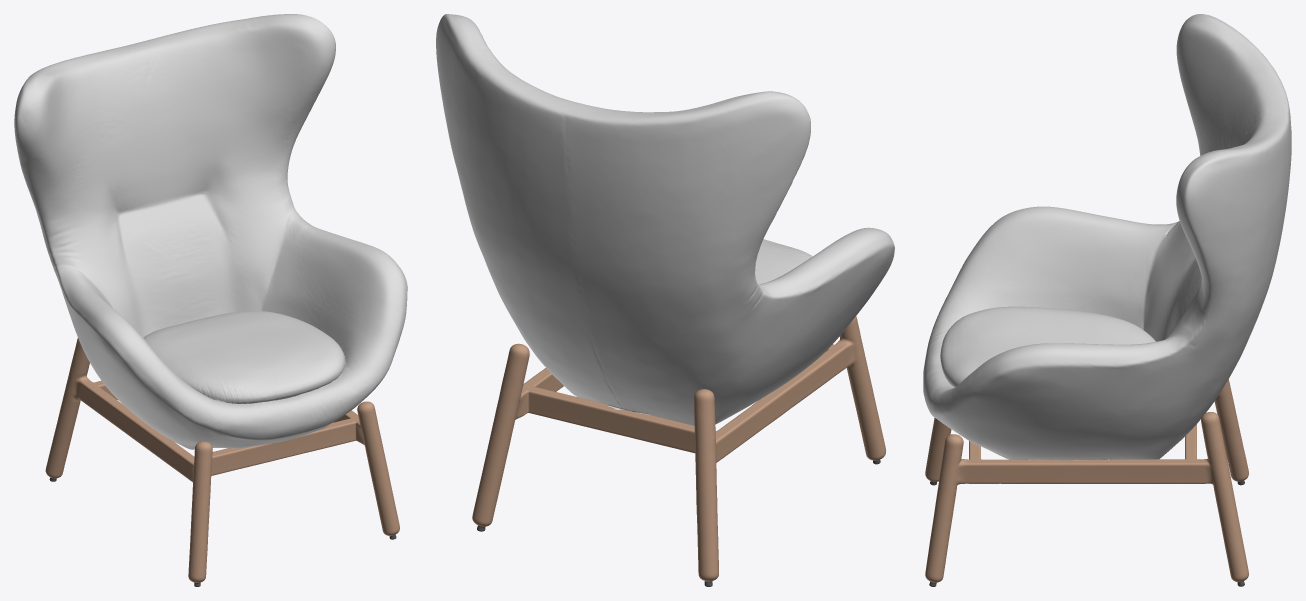
The model's file is SBH_ELKE.glb.
The picture shows the model from 3 angles, left to right: view 1: azimuth 30°, elevation 25°; view 2: azimuth 150°, elevation 25°; view 3: azimuth 270°, elevation 25°; orthographic projection. The views are drawn at different scales.
Parts seen in each view (by area): view 1: ELKE; view 2: ELKE; view 3: ELKE.
Part boxes in pixels (x1,y1,x2,y2): ELKE: (14, 14, 407, 586); ELKE: (436, 14, 894, 586); ELKE: (923, 14, 1291, 586).
Size of the model in its own units: 0.8647 by 1.09 by 0.81.
